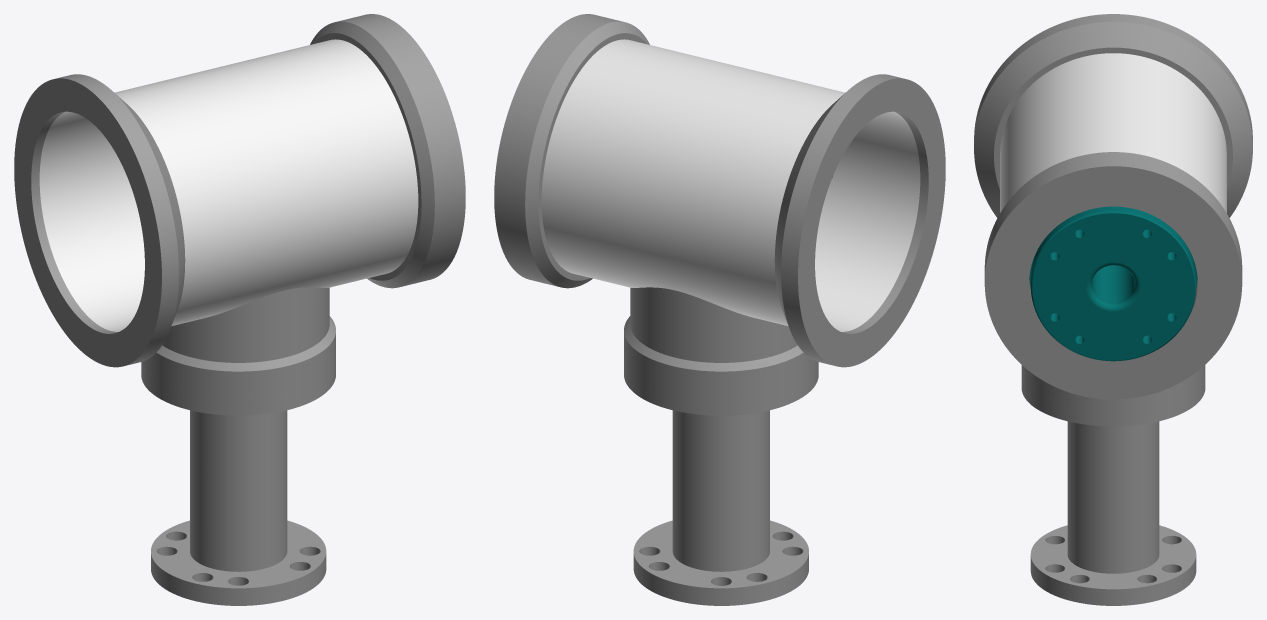
The model's file is Wrist_Motor.dae.
The picture shows the model from 3 angles, left to right: view 1: azimuth 30°, elevation 25°; view 2: azimuth 150°, elevation 25°; view 3: azimuth 270°, elevation 25°; orthographic projection. The views are drawn at different scales.
Visible parts, largest first — view 1: Wrist_Motor; view 2: Wrist_Motor; view 3: Wrist_Motor.
Part boxes in pixels (left/top/right/bottom): Wrist_Motor: left=14, top=14, right=465, bottom=605; Wrist_Motor: left=494, top=14, right=945, bottom=605; Wrist_Motor: left=974, top=14, right=1252, bottom=605.
Bounding box in the file's own units: 0.113 × 0.091 × 0.1755.
